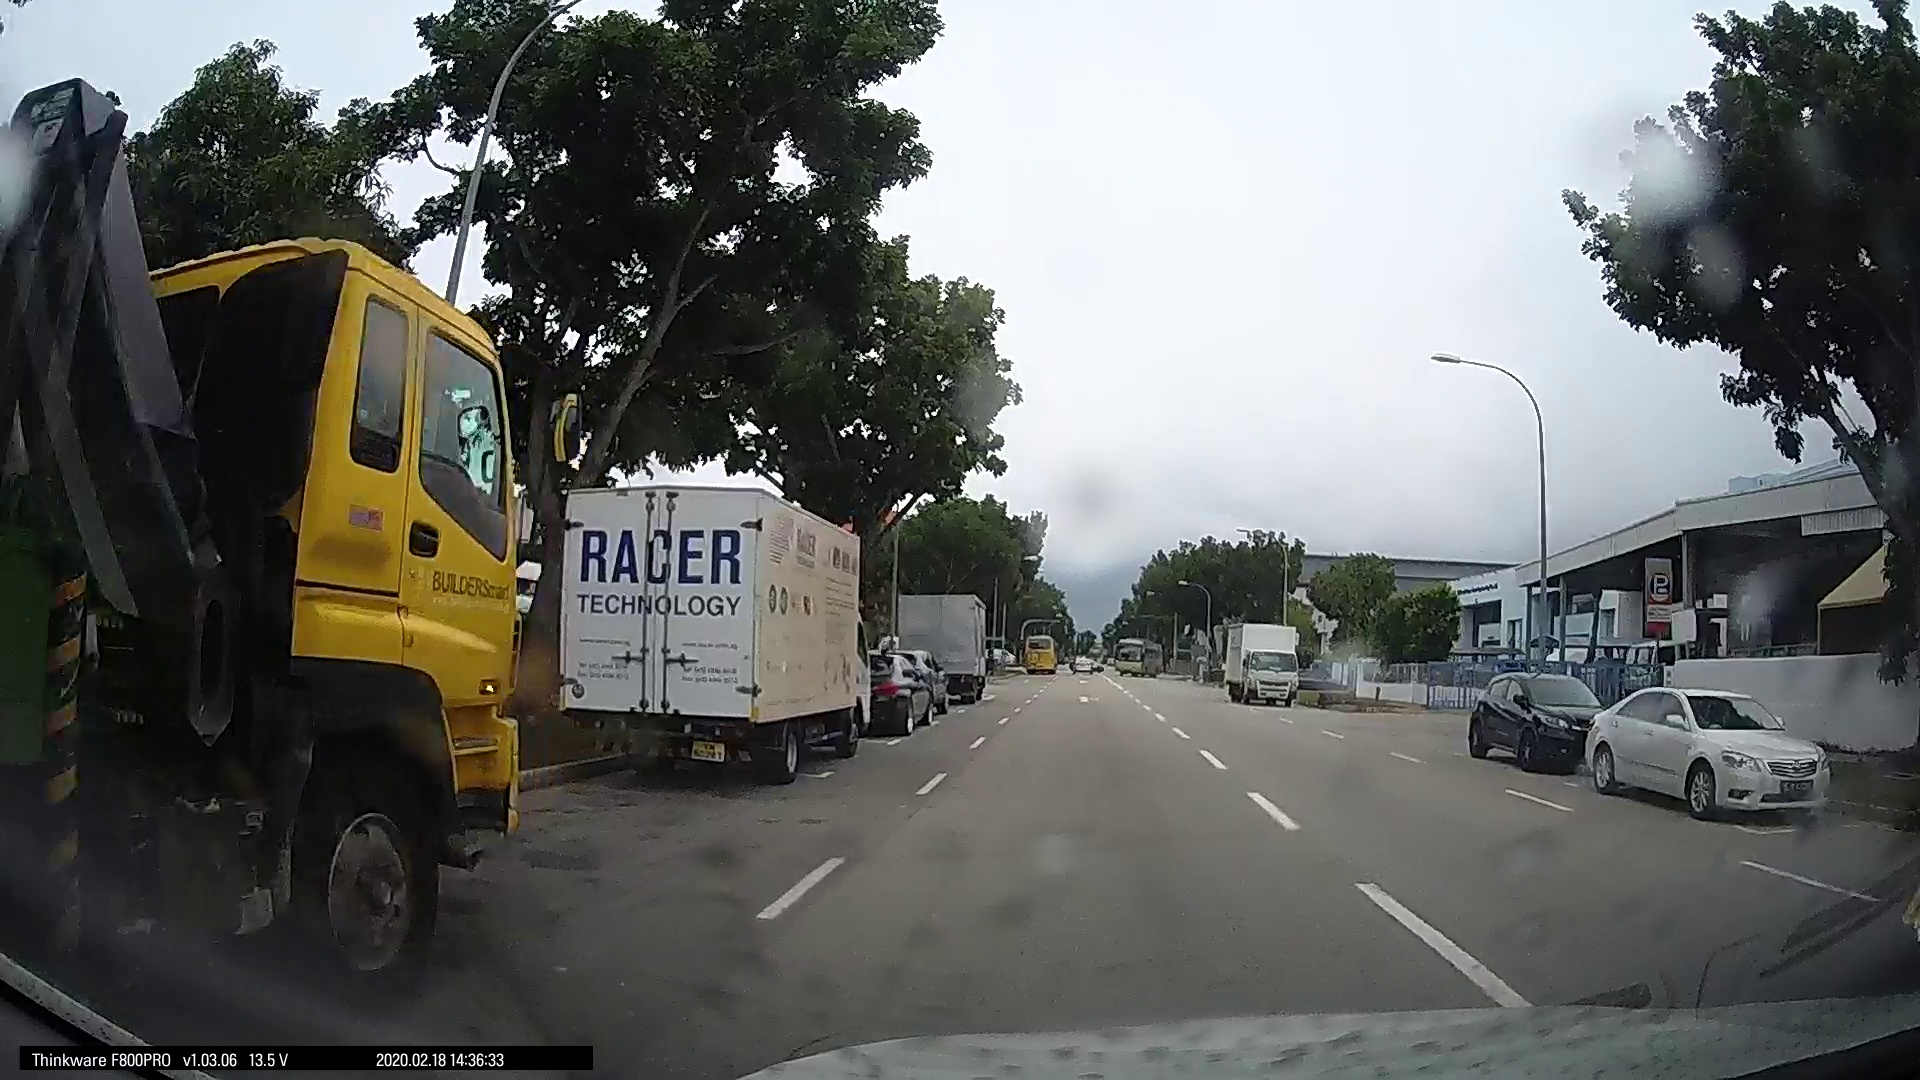Heavy Vehicle: (47, 211, 537, 994), (546, 477, 873, 790), (885, 580, 986, 705), (1221, 625, 1299, 705)
Light Vehicle: (1581, 676, 1832, 822), (1461, 663, 1604, 771), (862, 644, 936, 733), (1018, 626, 1059, 673)
